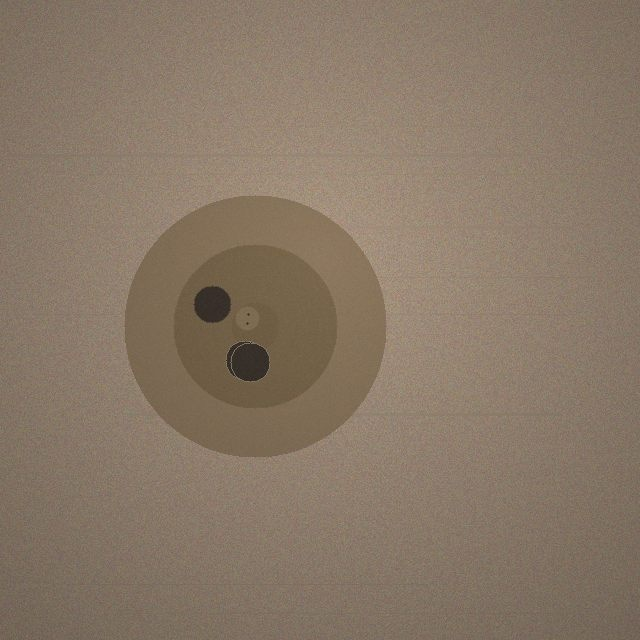shrinkage: (124, 195, 386, 457)
